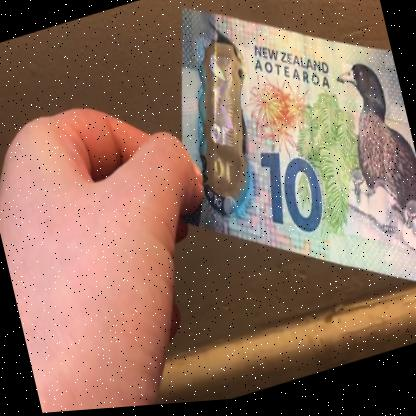10F: (192, 47, 254, 163)
